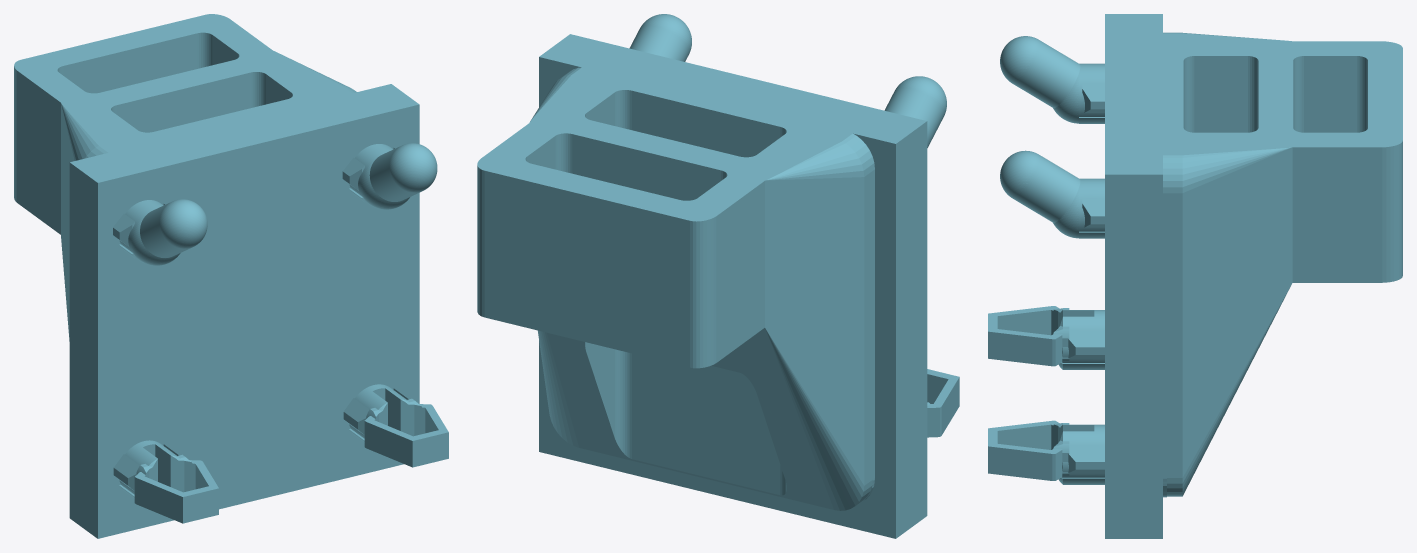
File: part-p11__current-mounts-flat-top-v2__fit-pf02c9-hoop5__installed.glb
3 renders of one model, left to right at view 1: azimuth 30°, elevation 25°; view 2: azimuth 150°, elevation 25°; view 3: azimuth 270°, elevation 25°, orthographic. The views are drawn at different scales.
Parts seen in each view (by area): view 1: installed.stl; view 2: installed.stl; view 3: installed.stl.
Boxes of the visible parts, x1,y1,x2,y2 form: installed.stl: [14, 14, 448, 538]; installed.stl: [477, 14, 959, 538]; installed.stl: [988, 14, 1402, 538].
Size of the model in its own units: 0.0356 by 0.0376 by 0.0388.
